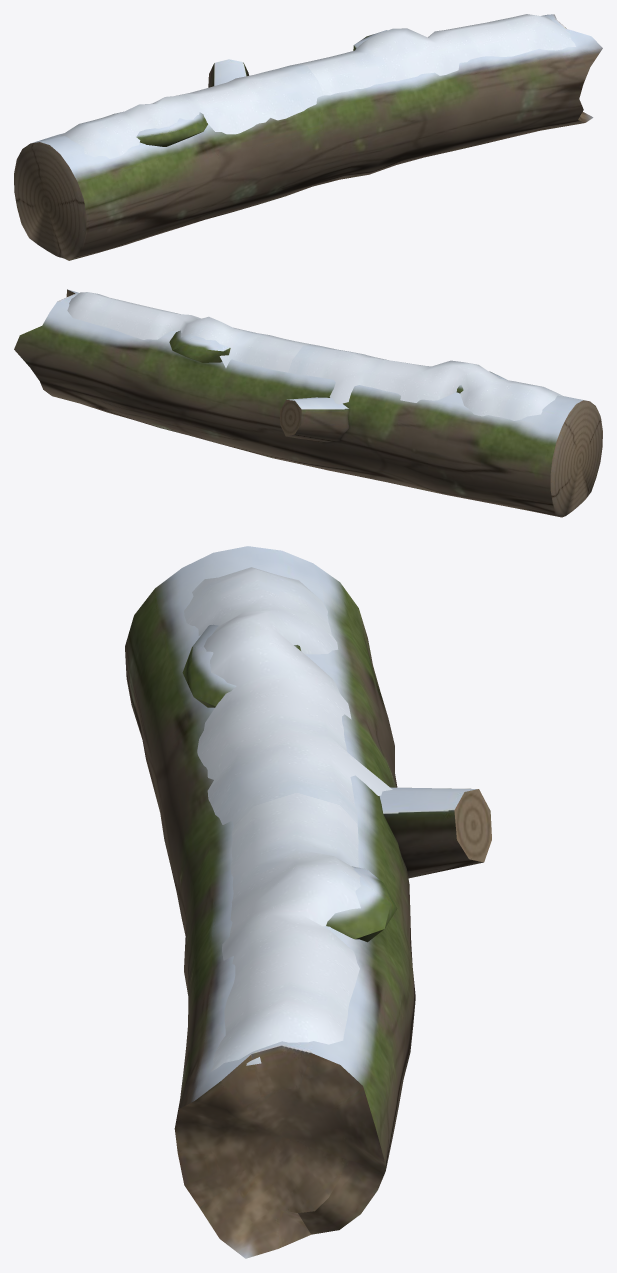
File: fm_log_mossy_fallen_a_snow.glb
3 views of the same model, one above another, from view 1: azimuth 30°, elevation 25°; view 2: azimuth 150°, elevation 25°; view 3: azimuth 270°, elevation 25° (orthographic). The views are drawn at different scales.
Visible parts, largest first — view 1: fm_log_mossy_fallen_a_snow; view 2: fm_log_mossy_fallen_a_snow; view 3: fm_log_mossy_fallen_a_snow.
Boxes of the visible parts, left/top/right/bottom form: fm_log_mossy_fallen_a_snow: left=14, top=14, right=602, bottom=260; fm_log_mossy_fallen_a_snow: left=14, top=289, right=602, bottom=517; fm_log_mossy_fallen_a_snow: left=125, top=546, right=491, bottom=1258.
Bounding box in the file's own units: 2.47 × 0.5127 × 0.7347.
Materials: 2 (2 with a texture image).
